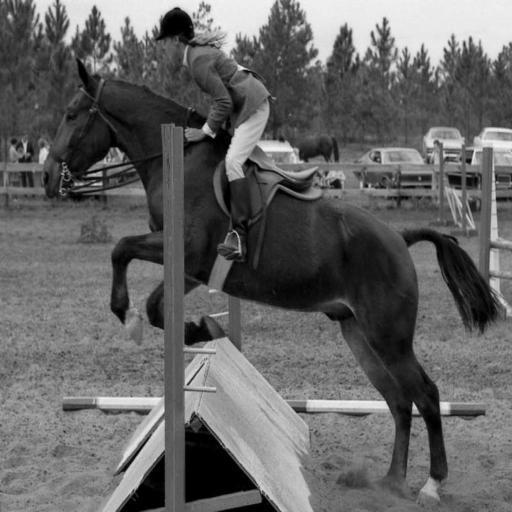horse: (38, 55, 504, 507), (294, 141, 342, 166)
